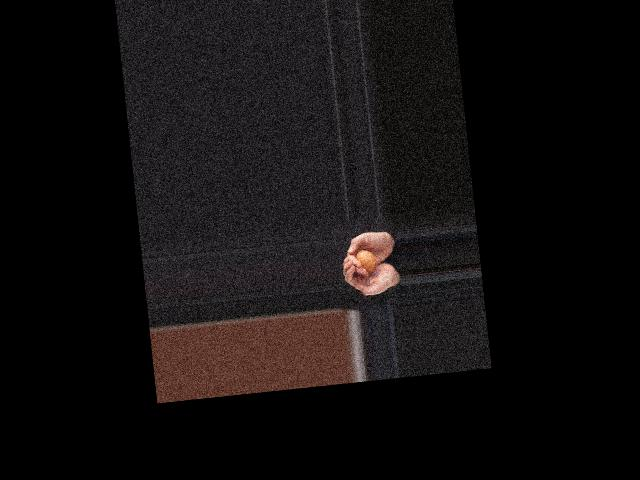egg: (355, 249, 377, 274)
